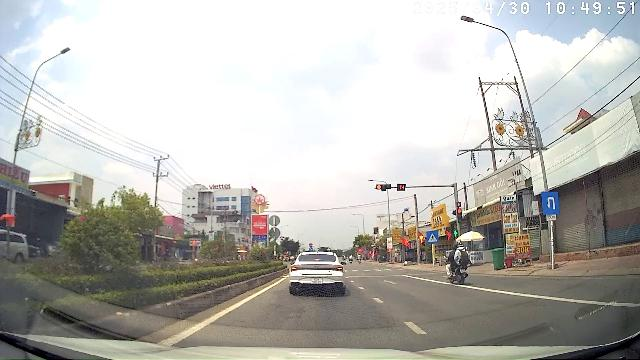423a-duong-nguoi-di-bo-sang-ngang-1: (428, 230, 438, 244)
